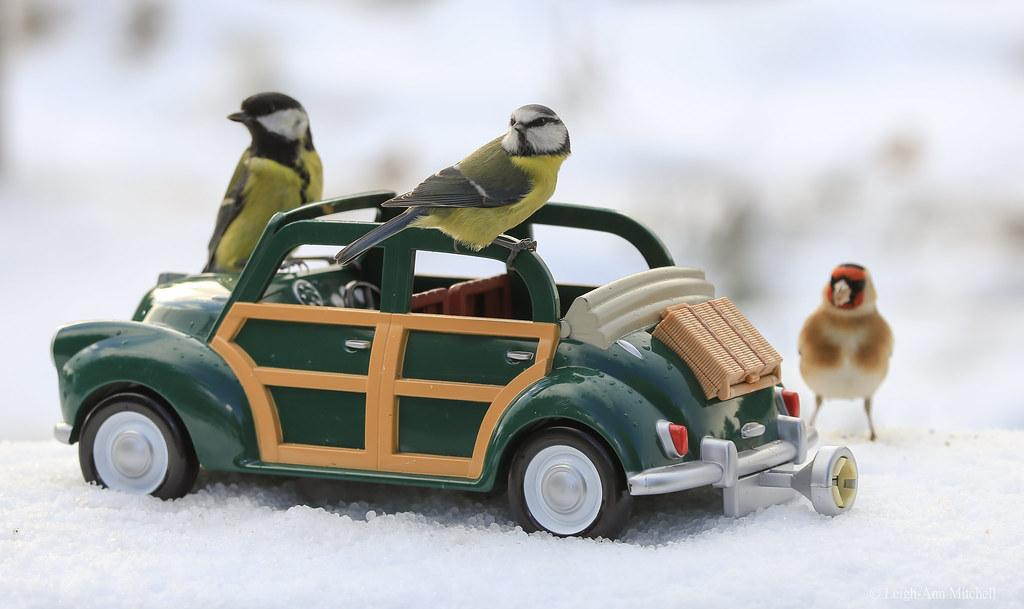car: (50, 189, 859, 542)
